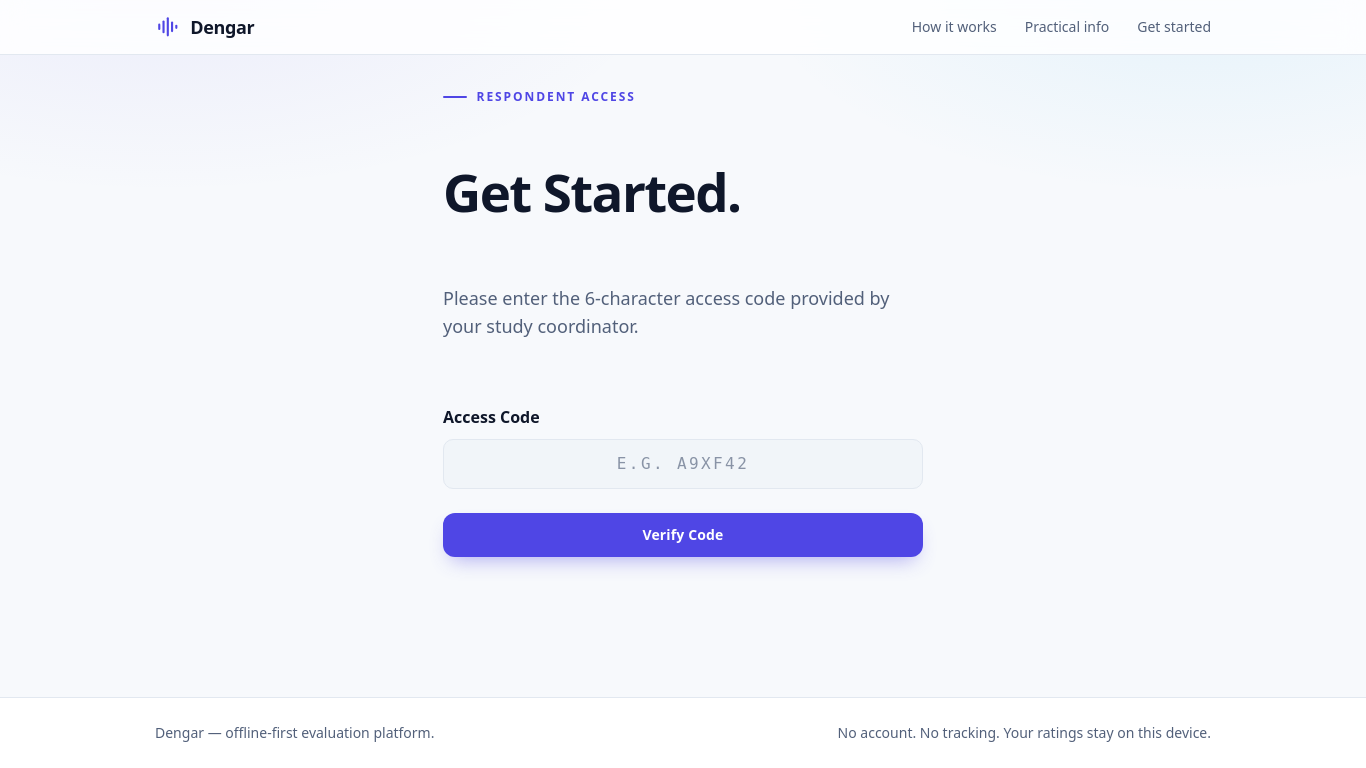
Test: GetStartedPage › shows generic error message when resolving invalid access code
The image size is (1366, 768).
Type "WRONG1" into the field labelled "Access Code" at point(683, 464), box x1=443 y1=439 x2=923 y2=489
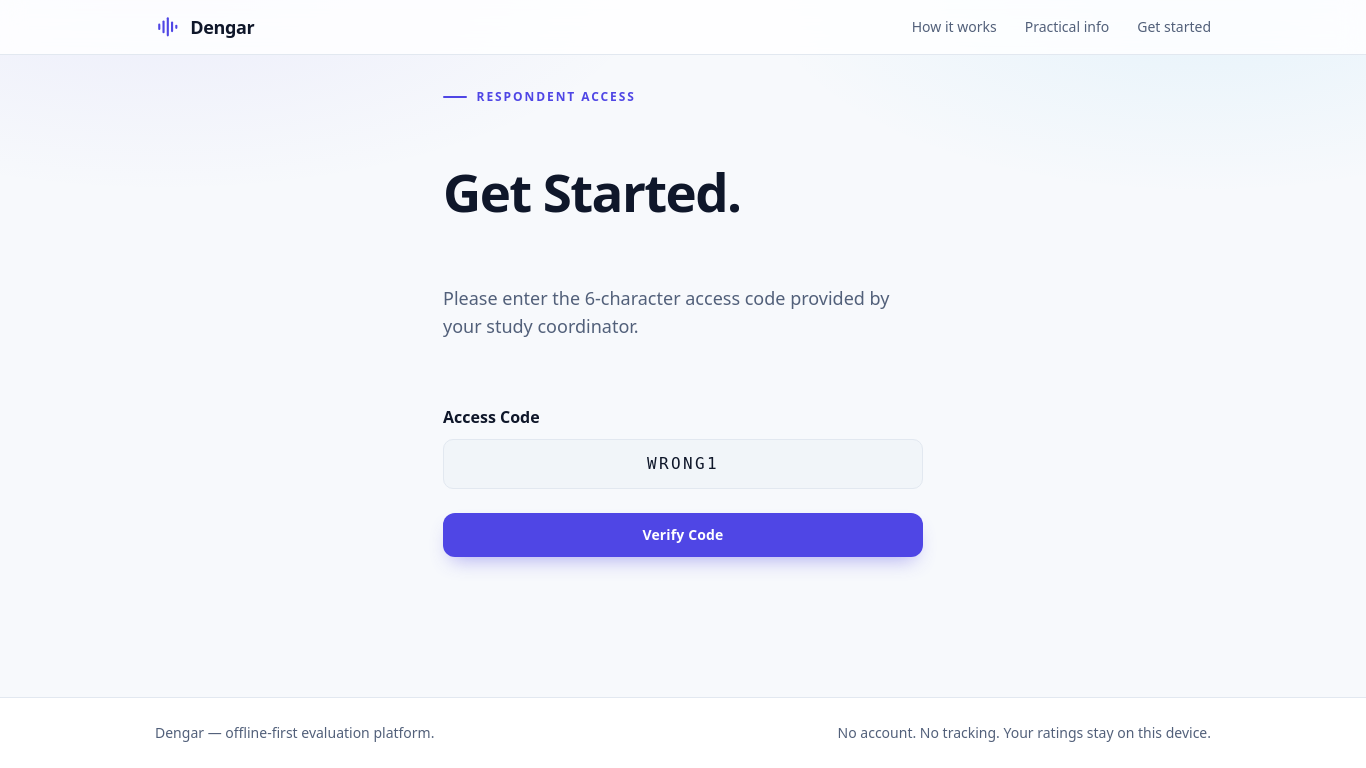
Click the button "Verify Code" at point(683, 535), box x1=443 y1=513 x2=923 y2=557
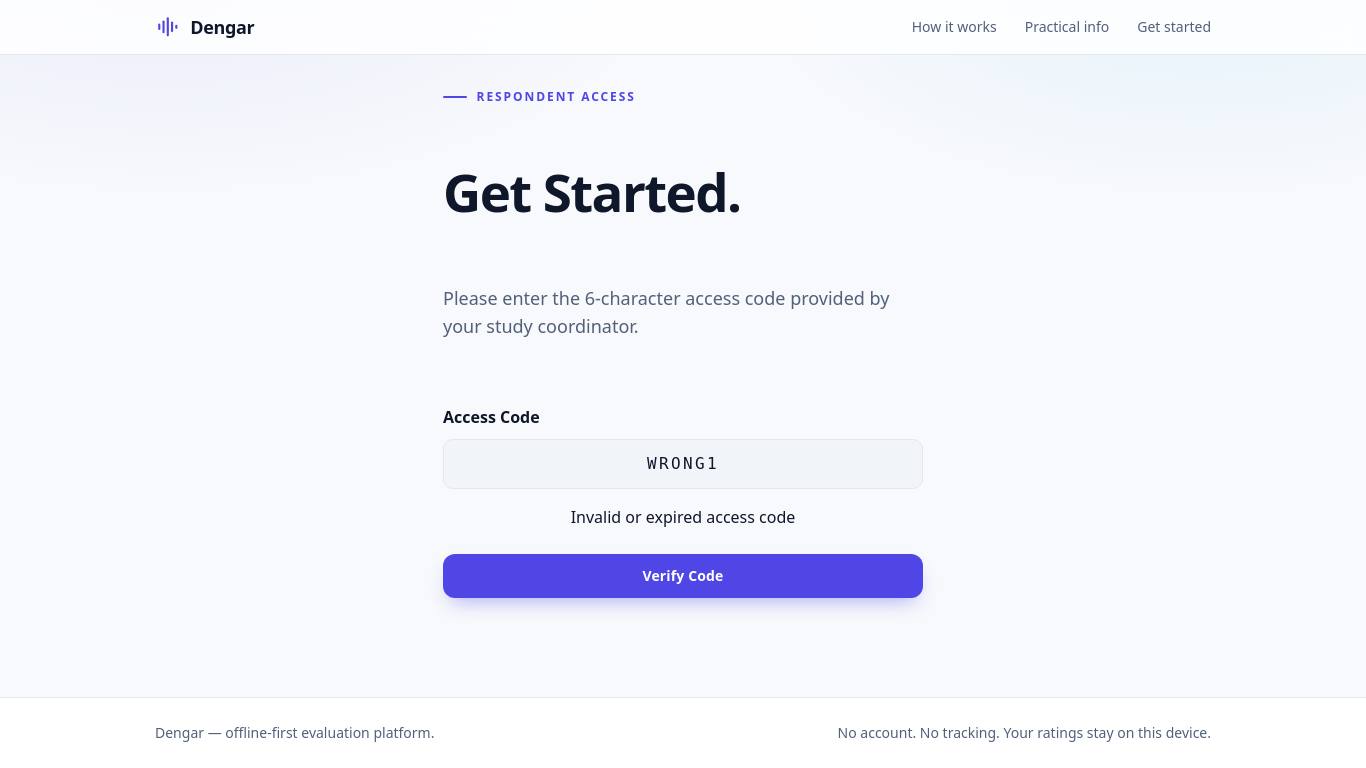
Expected: the text "Invalid or expired access code" is shown, x1=571 y1=506 x2=795 y2=528
